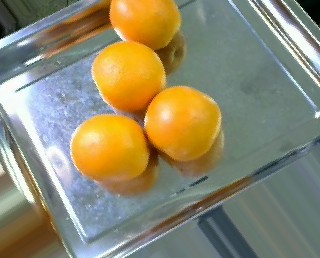Orange: (143, 84, 220, 162), (70, 112, 151, 182), (91, 41, 167, 112), (107, 1, 180, 49)
